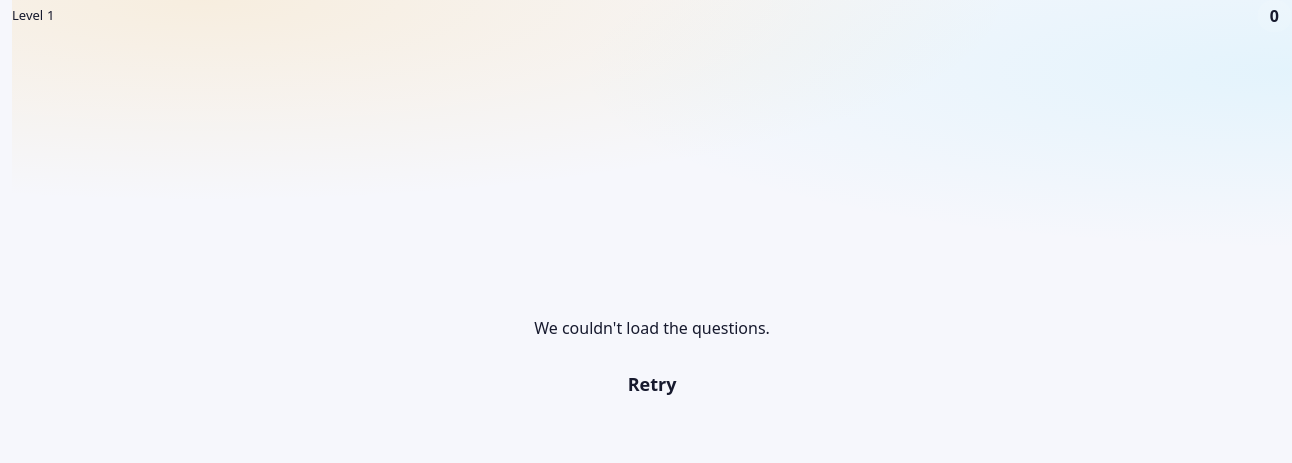
Scenario: the reload button is in English too
Click the button "Retry" at coordinates (652, 384), box x1=460 y1=356 x2=844 y2=412
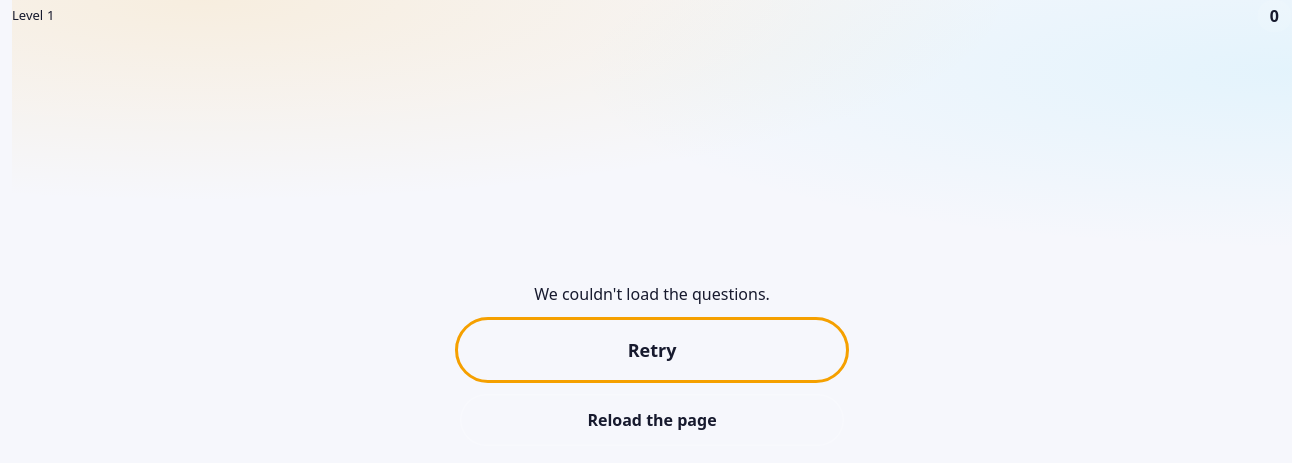
Expected: the button "Reload the page" is shown, x1=460 y1=394 x2=844 y2=446
